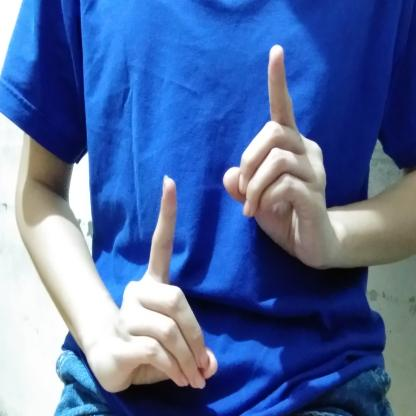morning: (111, 38, 337, 402)
